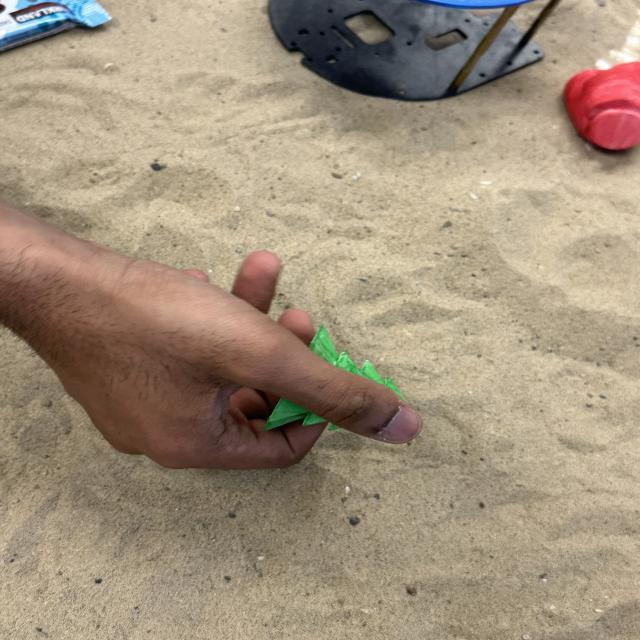fire: (561, 59, 638, 152)
tree: (260, 322, 412, 436)
